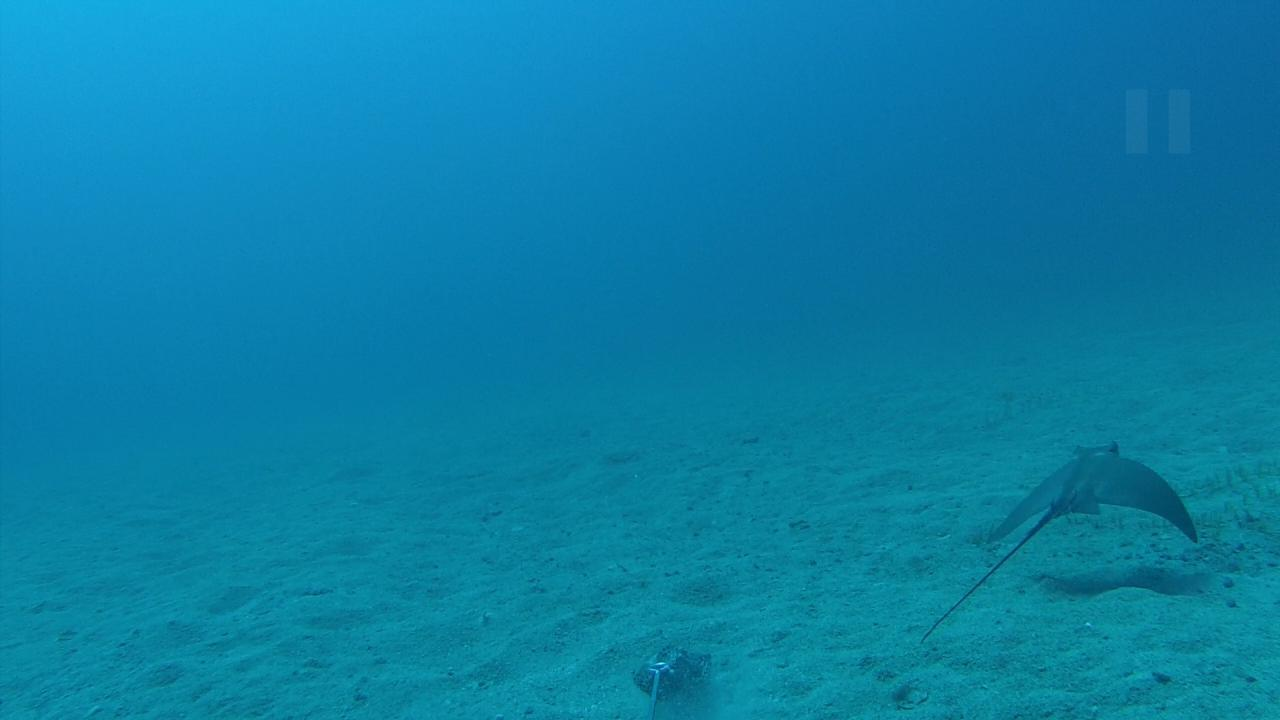dasyatis: (916, 442, 1202, 643)
